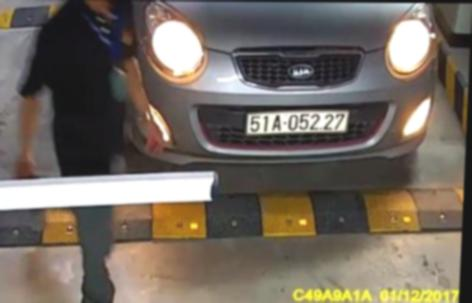License_Plate: (245, 107, 351, 138)
